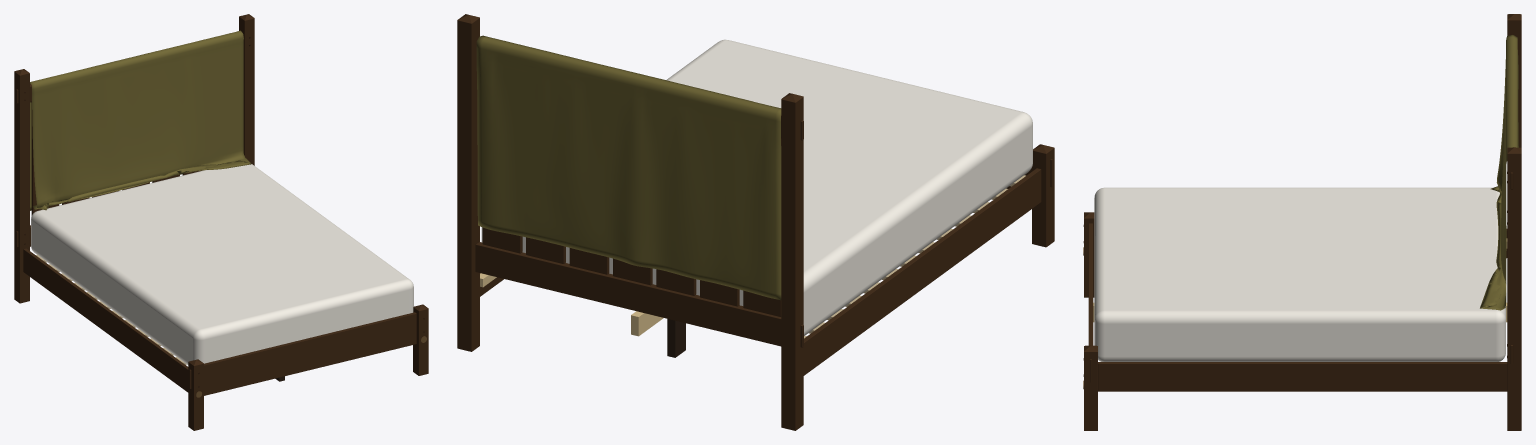
Rendered from bed-frame-quilt.dae.
3 renders of one model, left to right at view 1: azimuth 30°, elevation 25°; view 2: azimuth 150°, elevation 25°; view 3: azimuth 270°, elevation 25°, orthographic. The views are drawn at different scales.
Visible parts, largest first — view 1: Bed mattress, Bed headboard cover, Bed foot rail, Bed side rail L, Bed headboard post L, Bed headboard post R, Bed foot leg L, Bed foot leg R; view 2: Bed headboard cover, Bed mattress, Bed headboard rail bottom, Bed side rail L, Bed headboard post L, Bed headboard post R, Bed foot leg L, Bed headboard slat 5, Bed headboard slat 6, Bed headboard slat 3, Bed headboard slat 2, Bed headboard slat 7 (+3 smaller); view 3: Bed mattress, Bed side rail R, Bed headboard post R, Bed headboard cover, Bed foot leg R, Bed foot rail, Bed headboard post L, Bed foot leg L.
Boxes of the visible parts, x1,y1,x2,y2 form: Bed mattress: (31,164,413,364); Bed headboard cover: (30,30,251,210); Bed foot rail: (204,312,416,395); Bed side rail L: (23,248,188,392); Bed headboard post L: (14,72,29,303); Bed headboard post R: (239,17,254,165); Bed foot leg L: (188,362,203,430); Bed foot leg R: (413,307,428,375); Bed headboard cover: (476,35,781,300); Bed mattress: (481,39,1032,335); Bed headboard rail bottom: (475,242,781,346); Bed side rail L: (803,168,1041,375); Bed headboard post L: (781,97,803,430); Bed headboard post R: (457,18,479,351); Bed foot leg L: (1032,148,1054,247); Bed headboard slat 5: (569,248,609,274); Bed headboard slat 6: (526,237,565,263); Bed headboard slat 3: (656,269,696,295); Bed headboard slat 2: (700,280,739,306); Bed headboard slat 7: (482,227,522,253); Bed mattress: (1094,187,1505,361); Bed side rail R: (1098,362,1507,391); Bed headboard post R: (1507,153,1521,430); Bed headboard cover: (1480,35,1518,310); Bed foot leg R: (1084,352,1097,430); Bed foot rail: (1088,223,1093,345); Bed headboard post L: (1507,20,1521,147); Bed foot leg L: (1084,218,1094,297).
Size of the model in its own units: 64.88 by 85.14 by 60.12.
